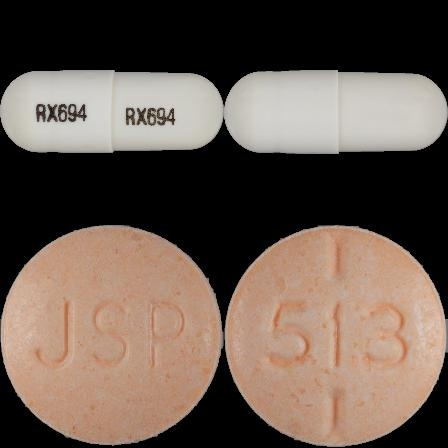63629-2796: (0, 0, 224, 224)
